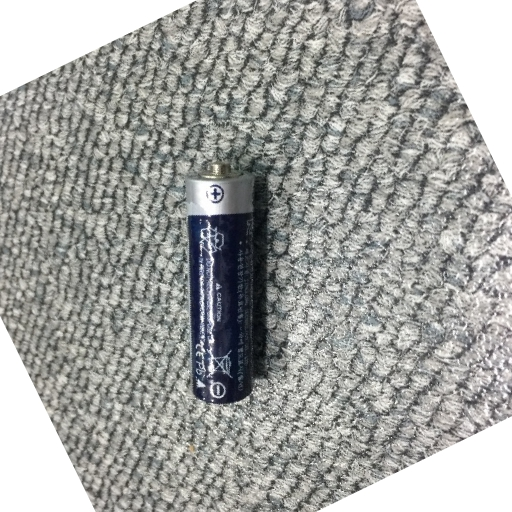Battery_0: (178, 150, 280, 415)
